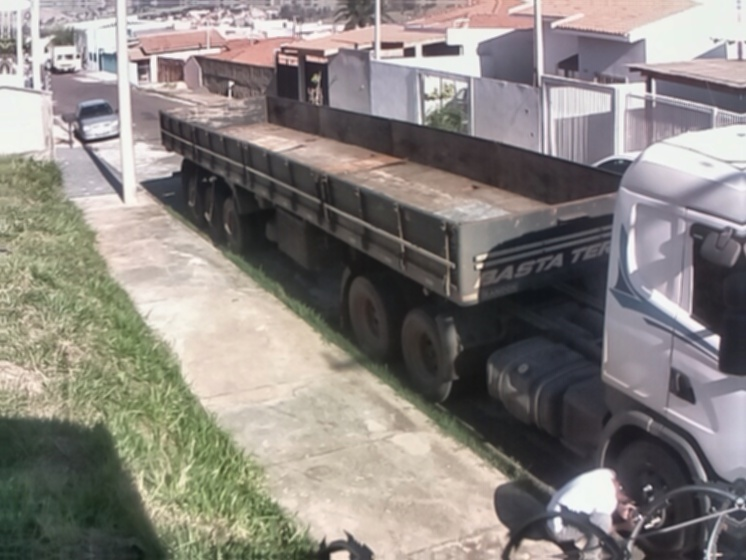person: (544, 465, 644, 560)
